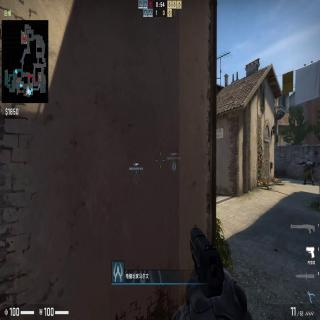T-Body: (303, 160, 315, 187)
T-Head: (306, 160, 310, 163)
